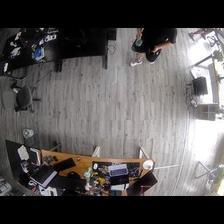normal: (130, 28, 176, 68)
